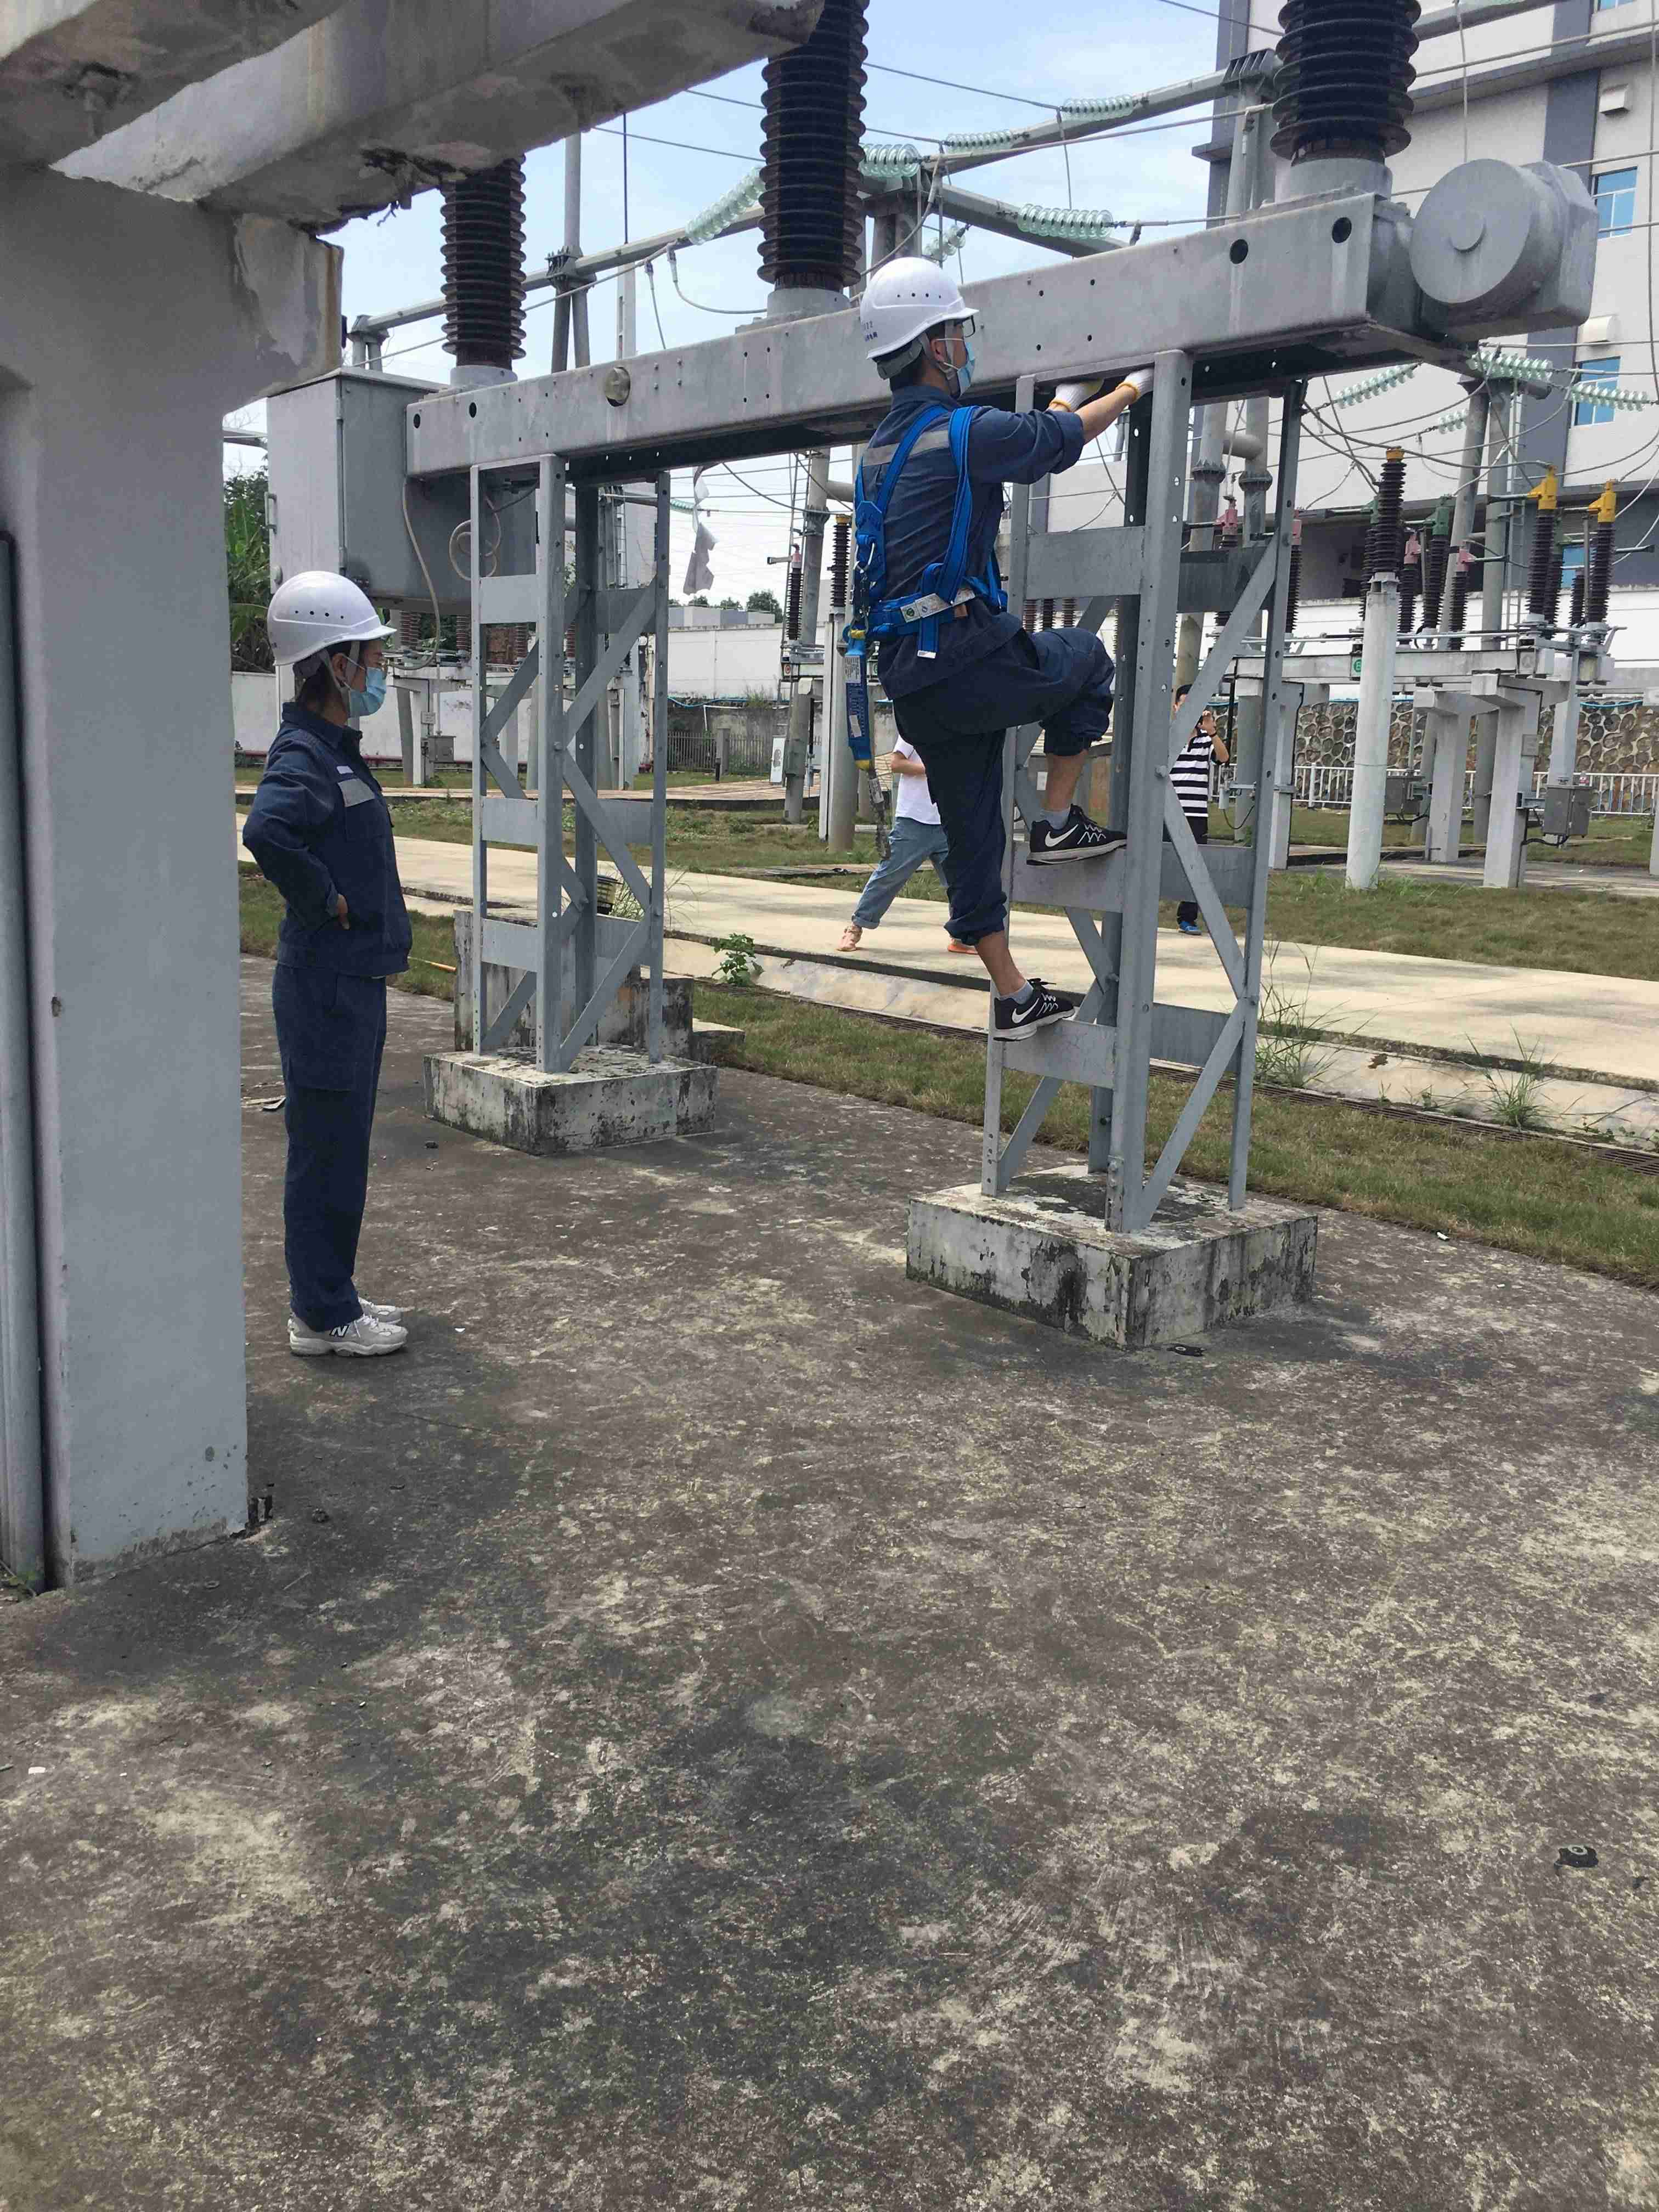downsuit: (873, 632, 1114, 941), (275, 984, 392, 1325)
upsuit: (850, 395, 1086, 617), (246, 702, 415, 975)
wrongbottom: (1032, 700, 1108, 826), (945, 890, 1026, 995)
wrongtop: (1046, 378, 1143, 448)
